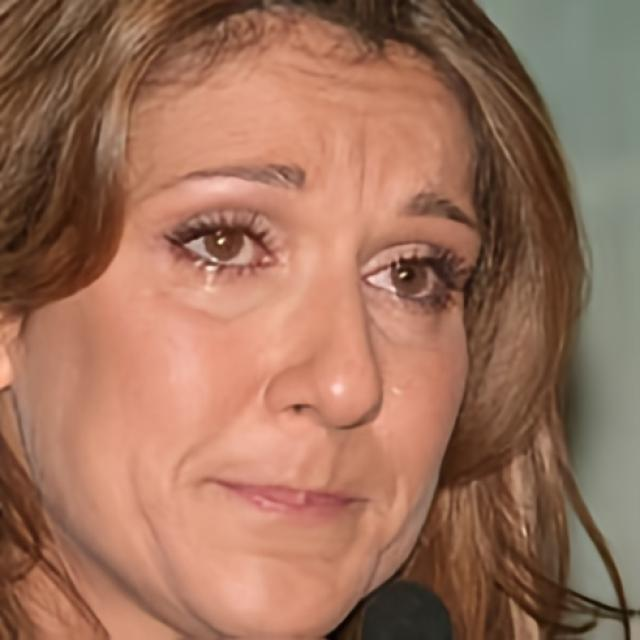sad: (11, 9, 487, 640)
